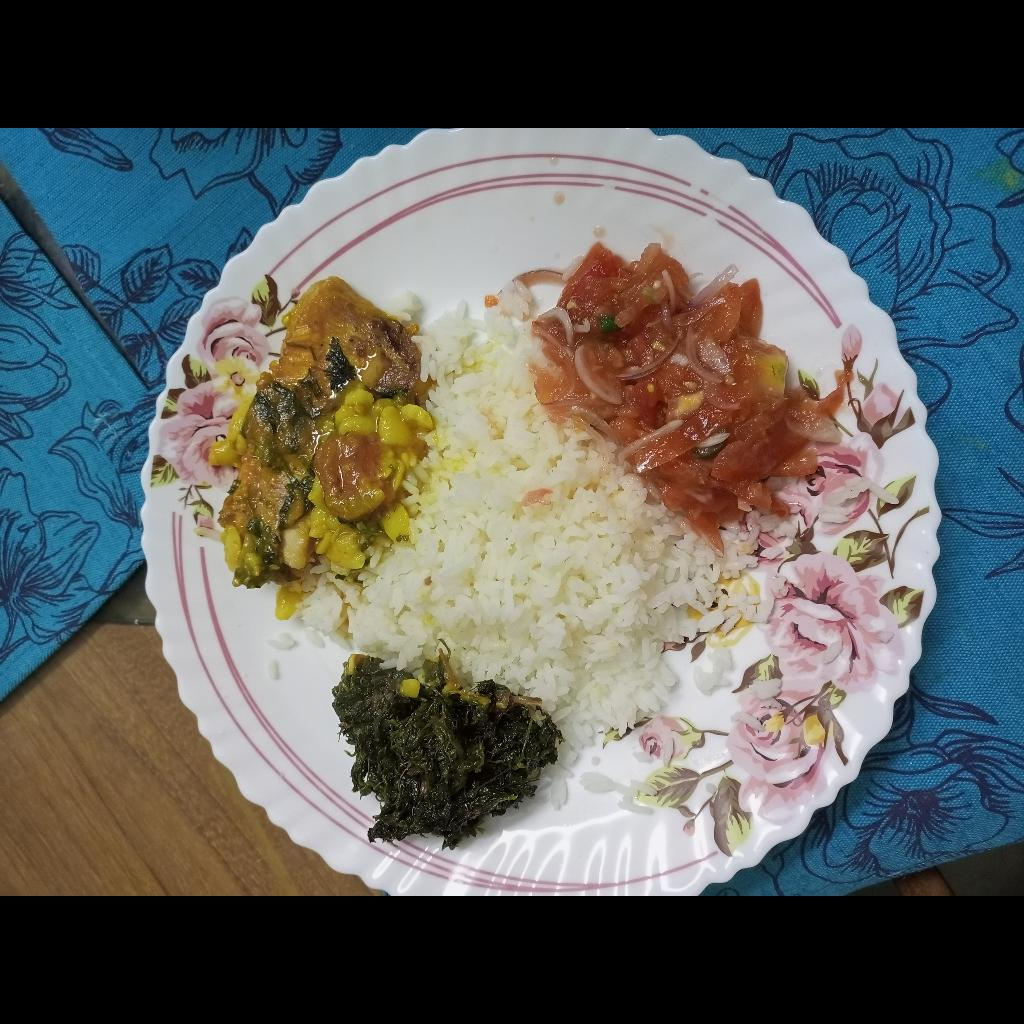fish: (199, 278, 422, 599)
rice: (294, 273, 772, 740)
shak: (328, 643, 565, 857)
tomato: (537, 239, 844, 562)
